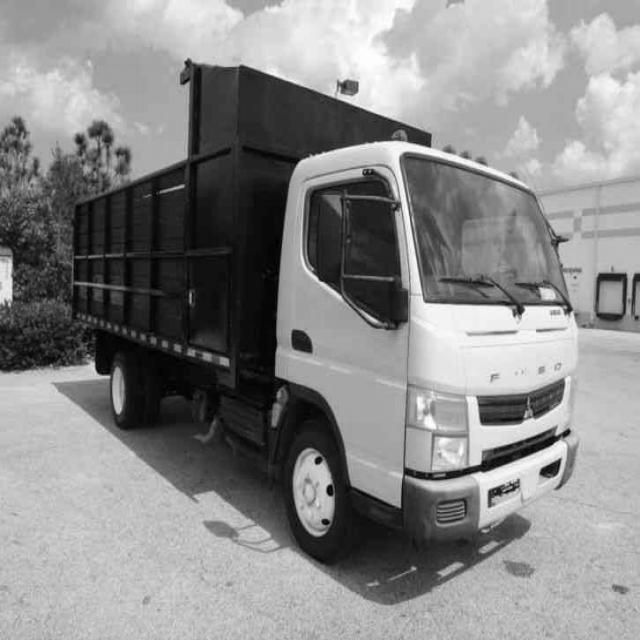truck: (245, 108, 609, 565)
